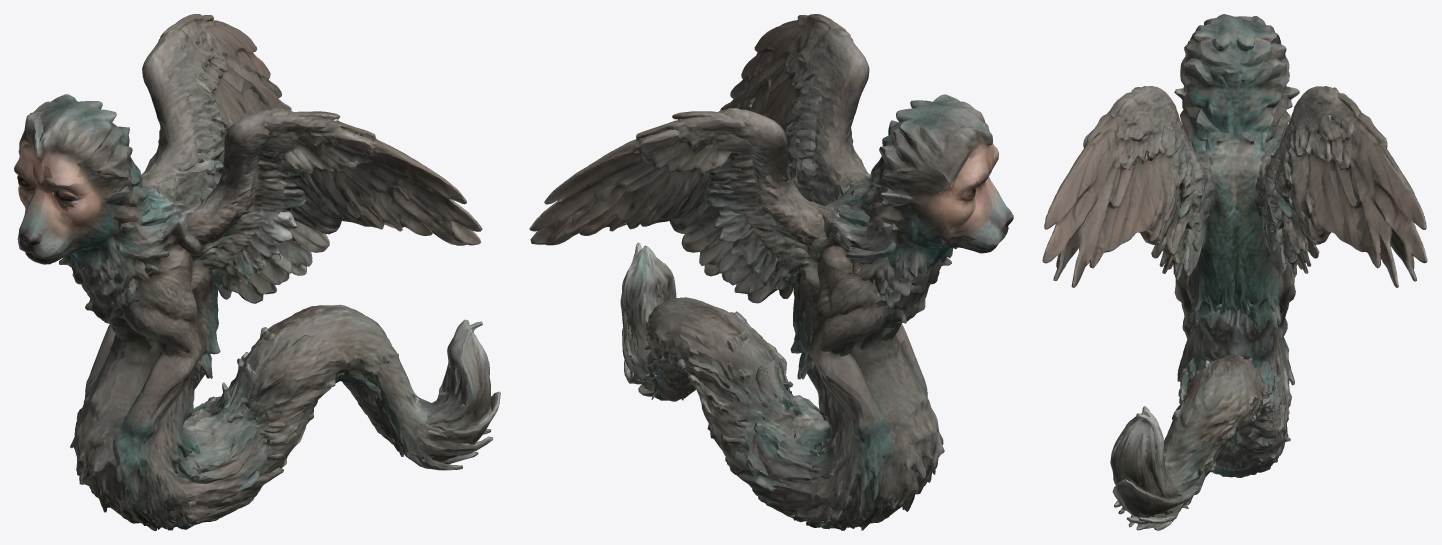
Rendered from huashe.glb.
3 views of the same model, side by side, from view 1: azimuth 30°, elevation 25°; view 2: azimuth 150°, elevation 25°; view 3: azimuth 270°, elevation 25° (orthographic). The views are drawn at different scales.
Visible parts, largest first — view 1: geometry_0; view 2: geometry_0; view 3: geometry_0.
Part boxes in pixels (x1,y1,x2,y2): geometry_0: (14,14,500,530); geometry_0: (529,14,1013,530); geometry_0: (1042,14,1427,530).
Bounding box in the file's own units: 1.2 × 1.18 × 1.04.
1 material, 1 textured.
